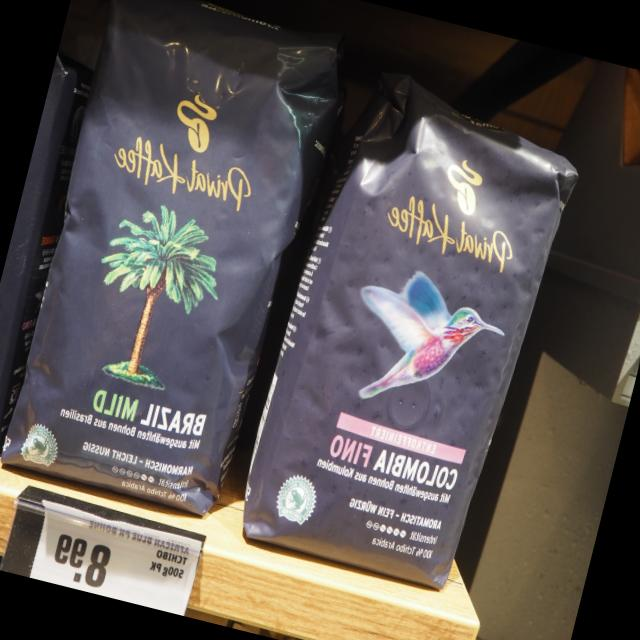C Fino Bohne: (222, 64, 586, 600)
